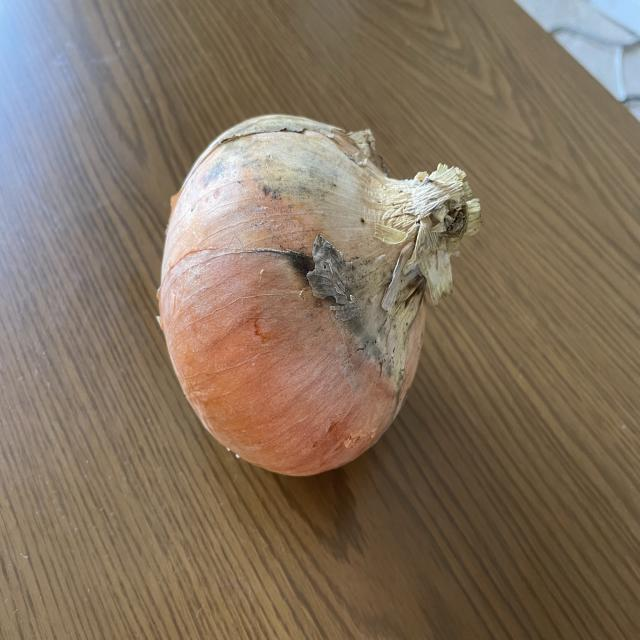onion: (158, 109, 482, 486)
